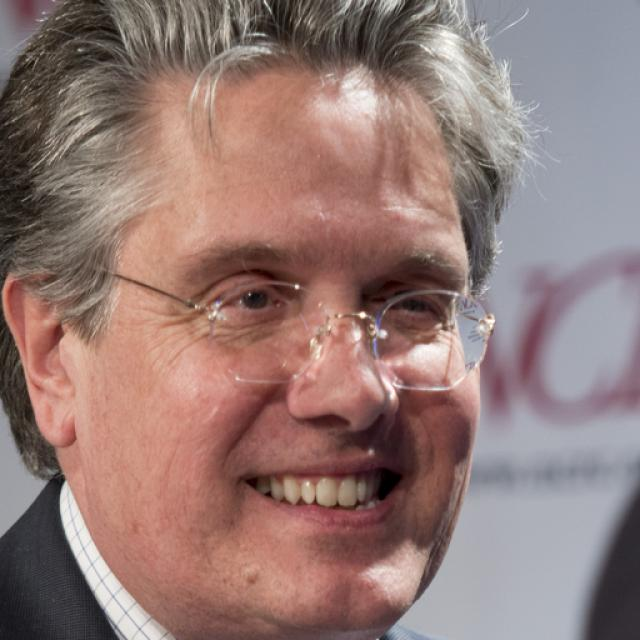Acne: (238, 563, 260, 592)
